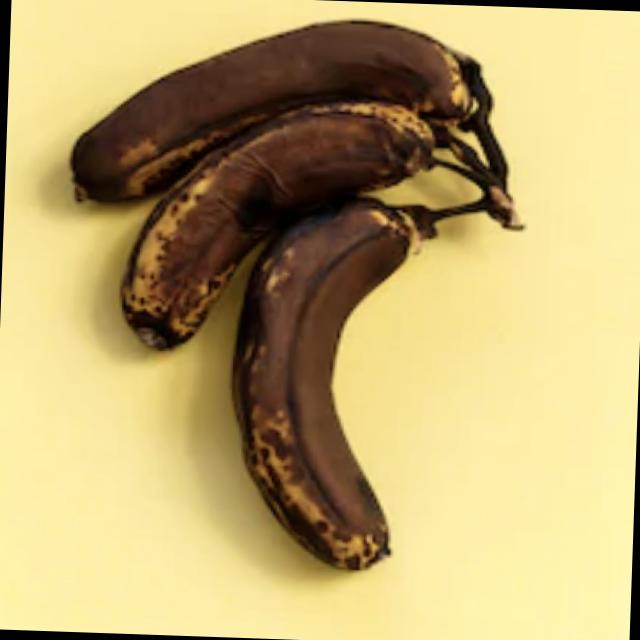banana: (32, 101, 565, 528)
